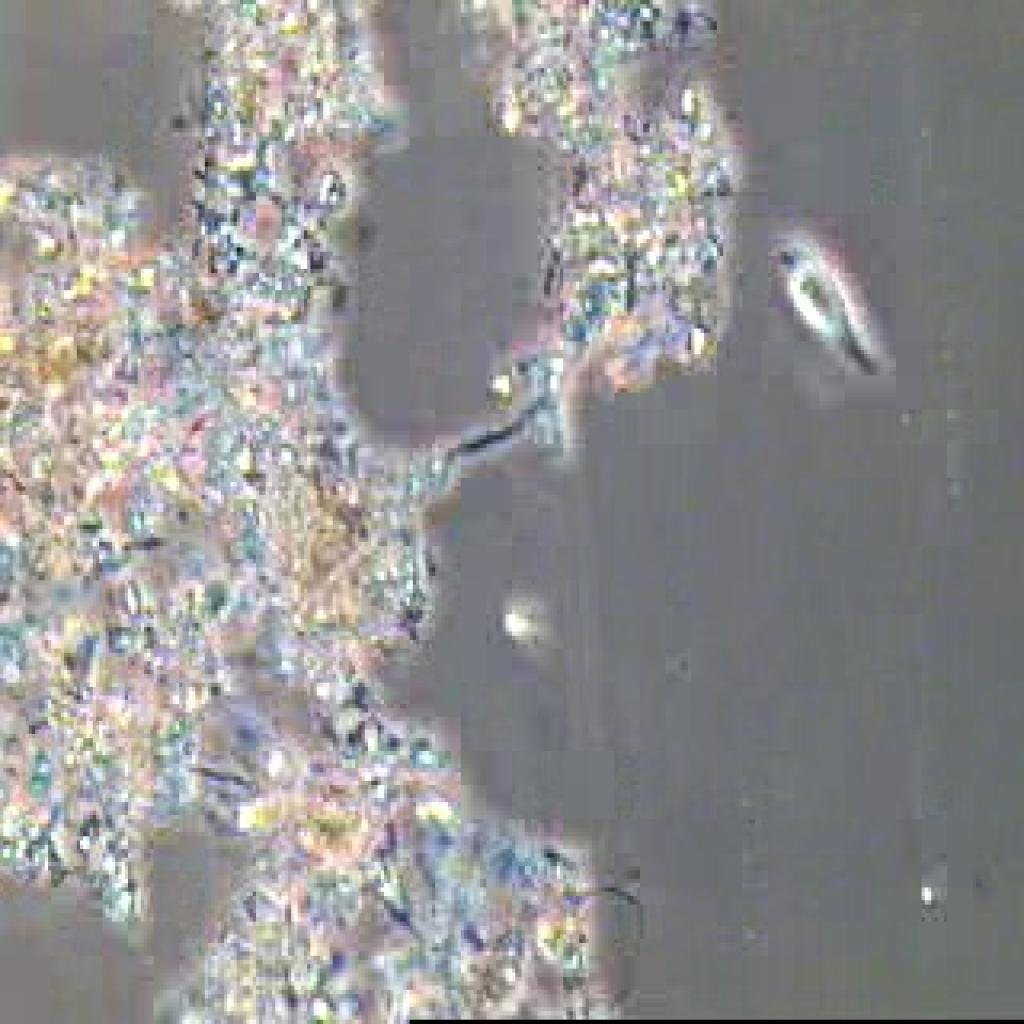Pristina: (755, 237, 896, 407)
